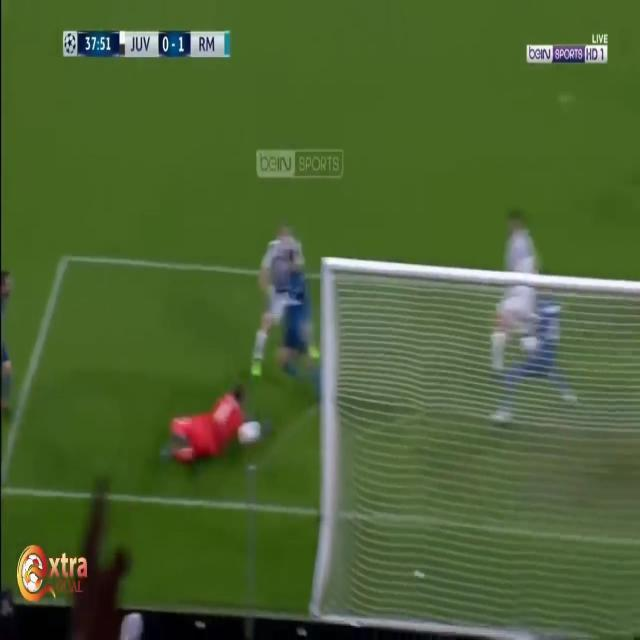ball: (238, 412, 265, 459)
player: (256, 215, 318, 388)
